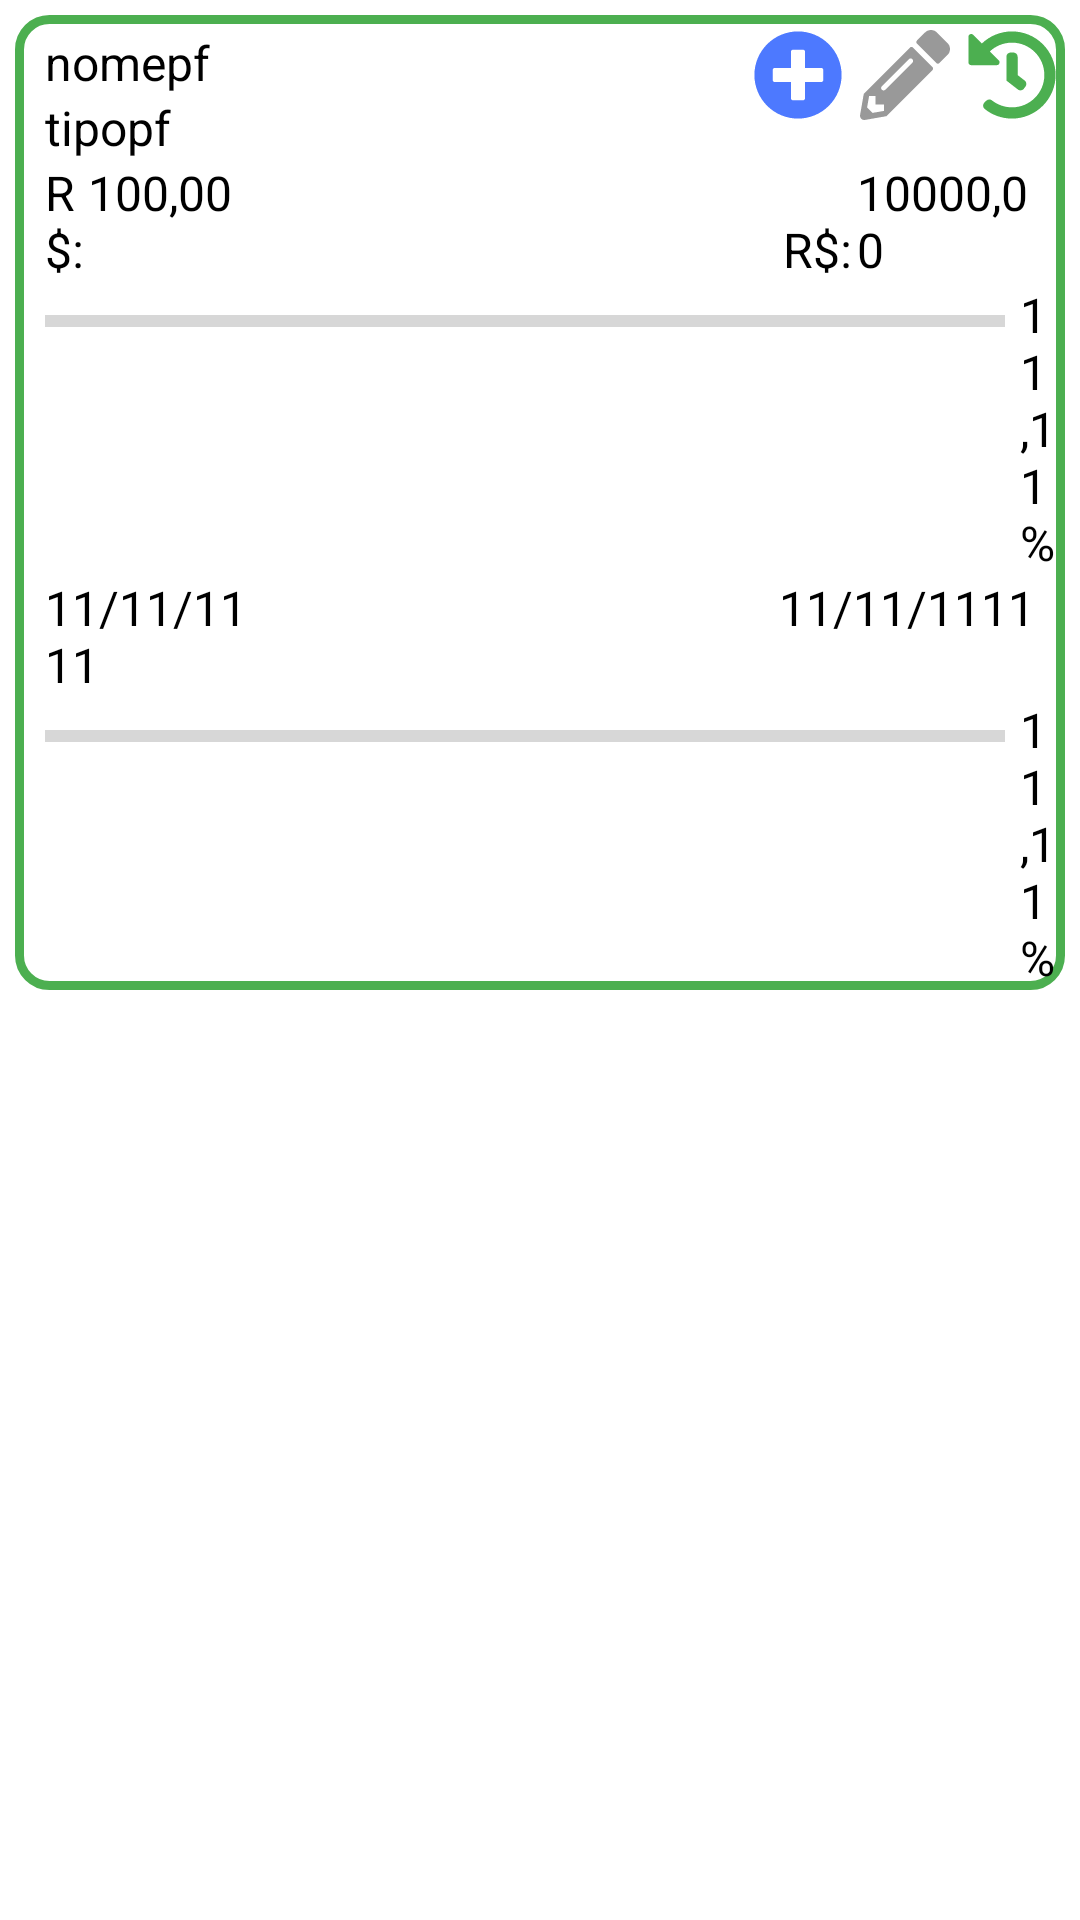

Icon bounding boxes for this 1080×1920 phone screenshot, format box(x1, y1, x2, y2):
add: box(754, 31, 842, 119)
edit: box(860, 30, 950, 120)
historico: box(968, 30, 1065, 120)
